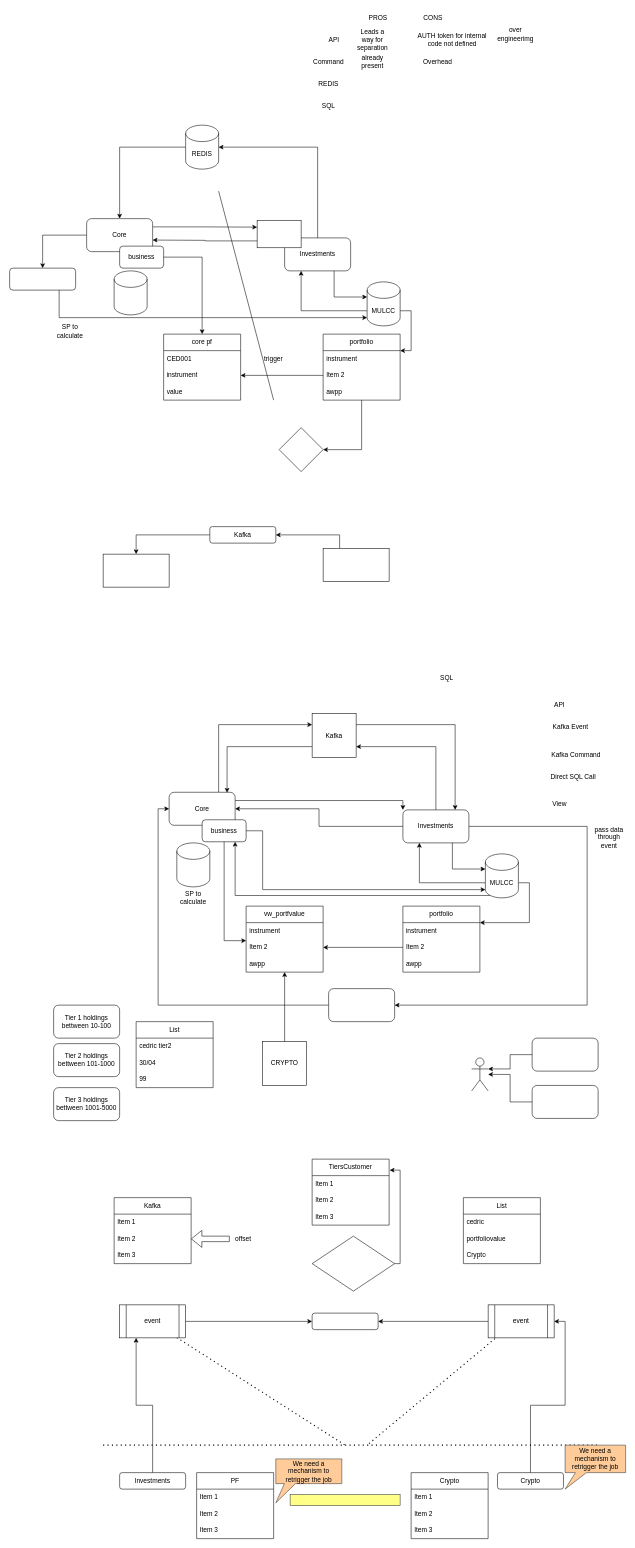
The diagram is 635 pixels wide and 1548 high, and some of its shapes have lost their labels. Here are the shapes that lost their labels. From the top down, the centre of each, then its label:
the point at 279,234: internal API
the point at 42,279: EOD process
the point at 301,449: convert to EUR
the point at 136,570: Prod
the point at 356,565: Consumer
the point at 361,1005: projection data
the point at 479,1074: Actor
the point at 353,1263: heartbeat process calculate Tier
the point at 345,1321: Domain
the point at 345,1500: Souce of truth
